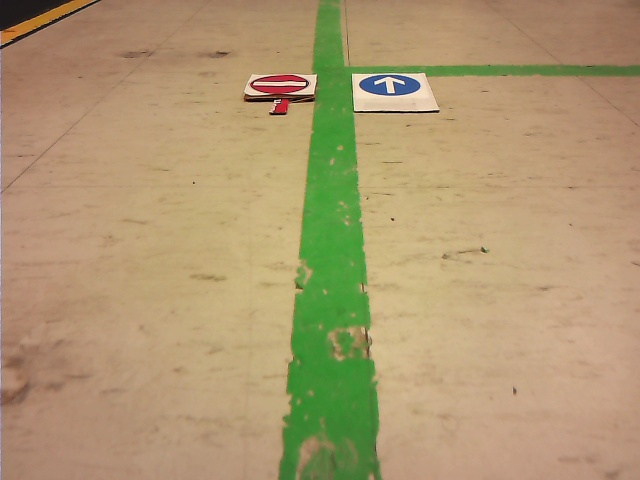GO FORWARD: (360, 74, 420, 96)
NO ENTRY: (251, 75, 309, 93)
